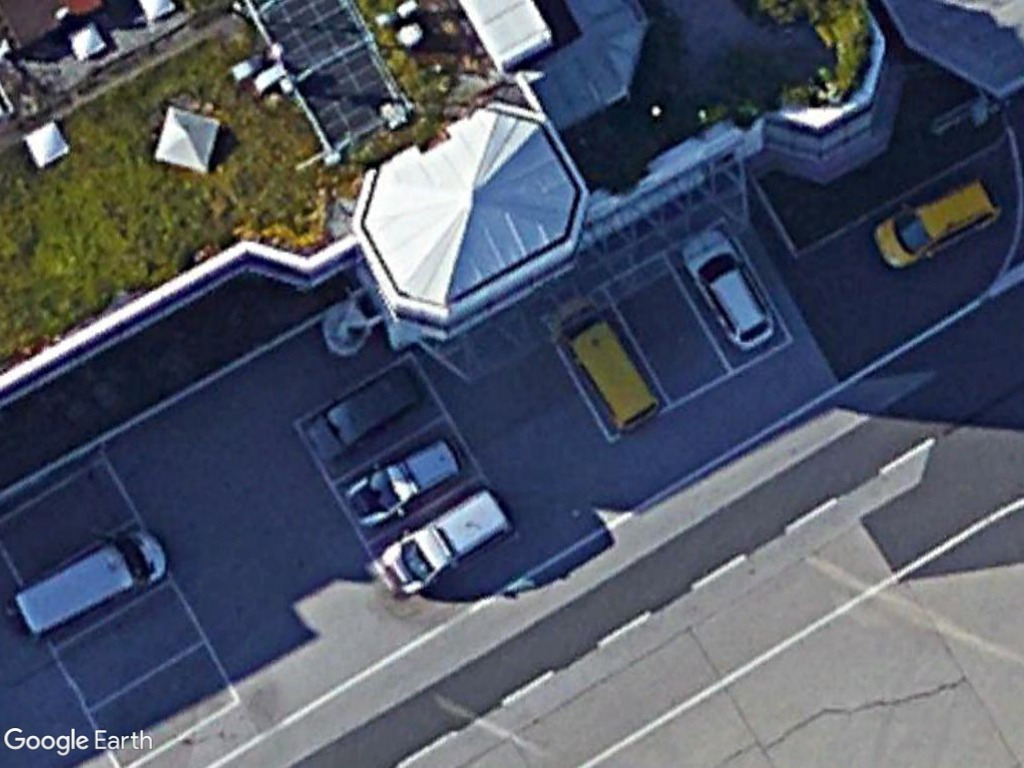car: (376, 487, 521, 600), (865, 176, 1002, 272), (676, 228, 777, 355)
van: (10, 523, 168, 643), (547, 292, 666, 441), (303, 362, 423, 462)
